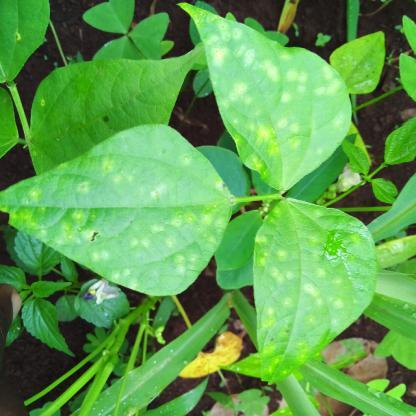Beans_Rust: (0, 123, 234, 292), (175, 2, 350, 189), (252, 198, 377, 376)
